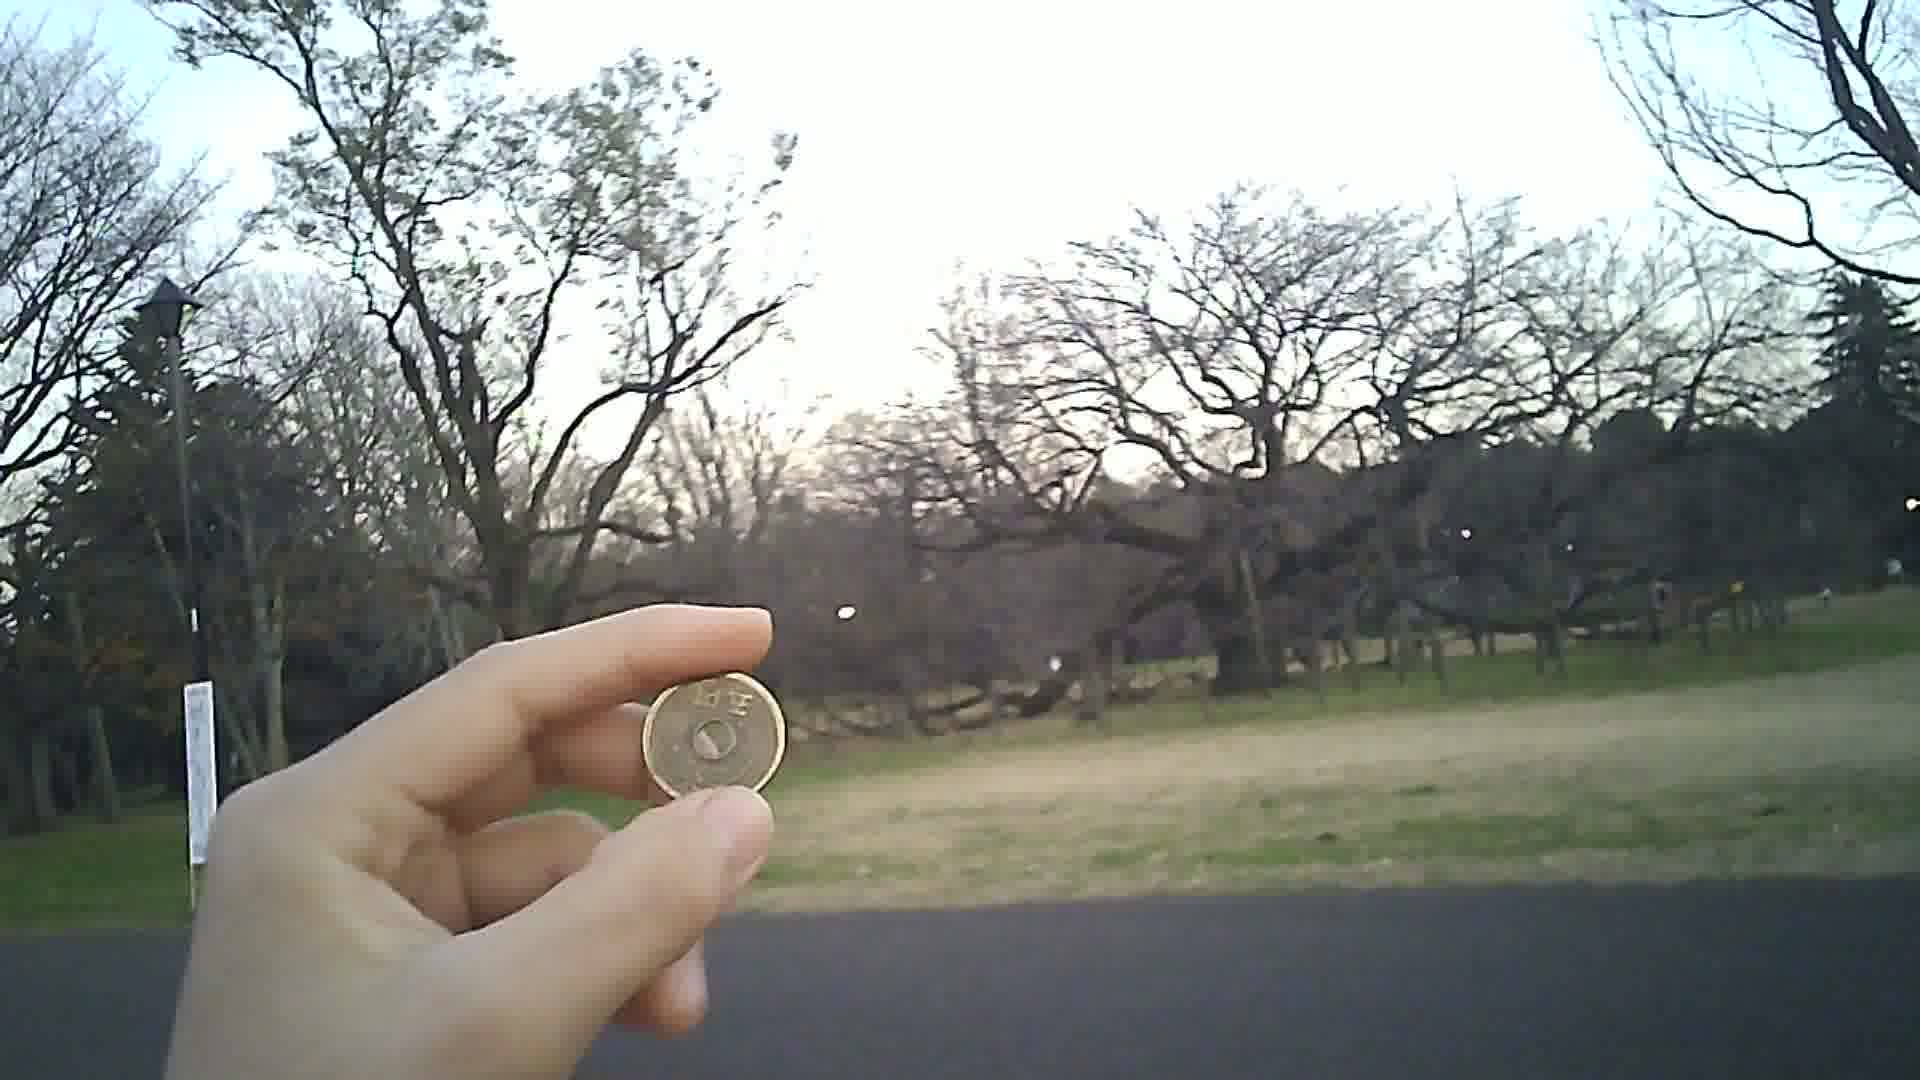5 Yen: (640, 661, 798, 811)
